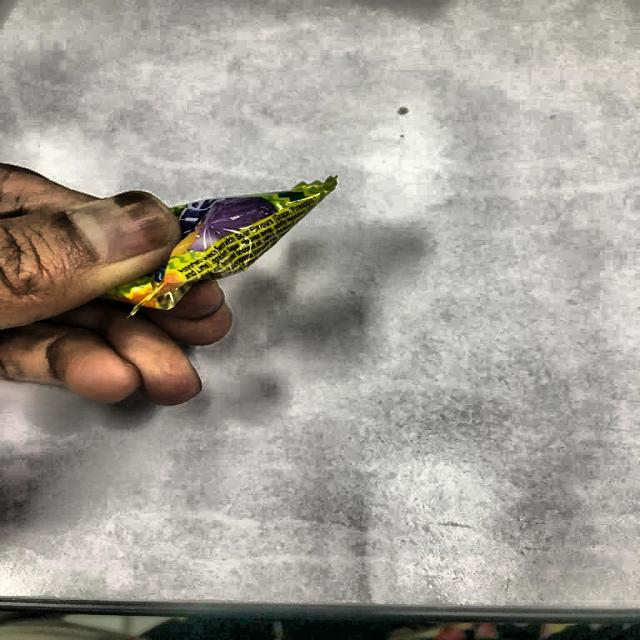Plastic: (119, 165, 338, 308)
